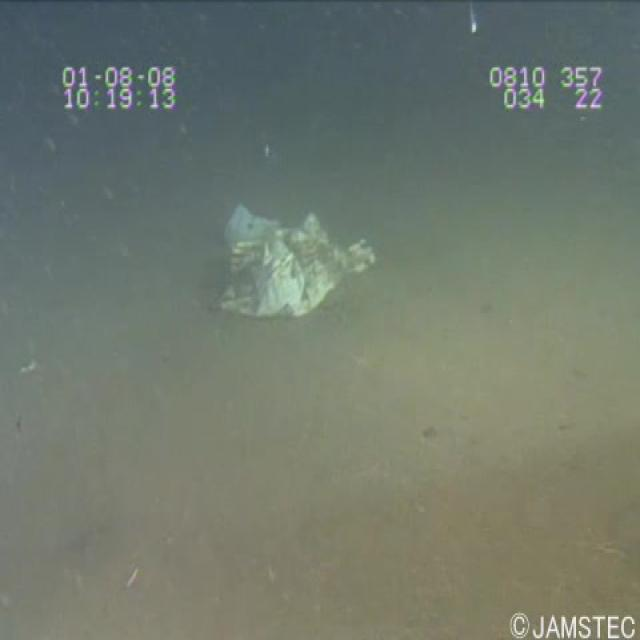plastic: (209, 194, 392, 336)
